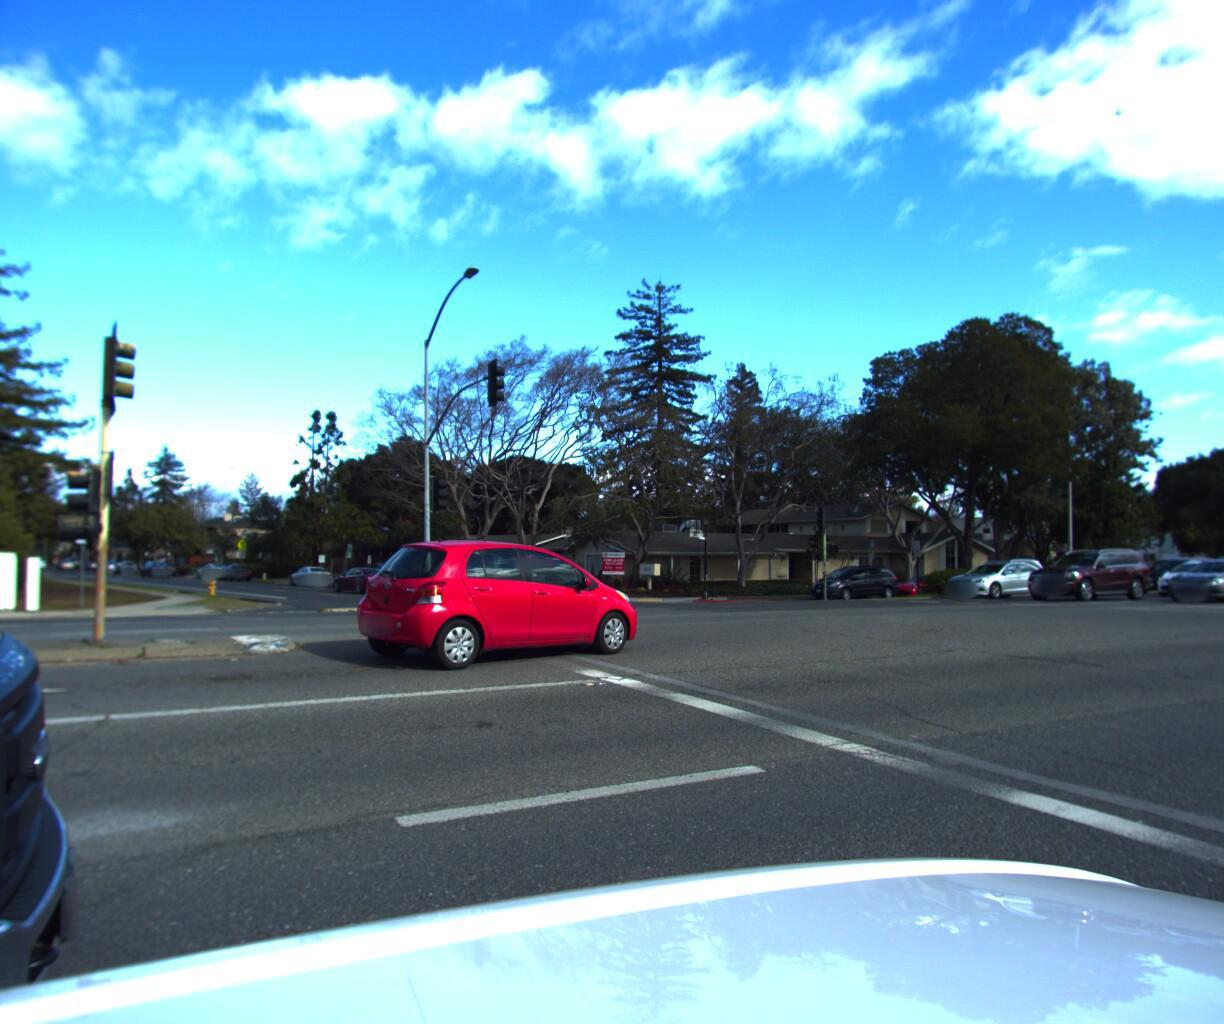car: (345, 535, 651, 678), (1022, 543, 1156, 599), (937, 555, 1053, 597), (806, 562, 902, 600), (1158, 546, 1224, 600), (1144, 552, 1224, 594), (881, 568, 966, 598), (331, 561, 399, 597), (289, 561, 338, 586), (216, 561, 256, 583), (196, 558, 235, 580), (140, 553, 175, 575)
